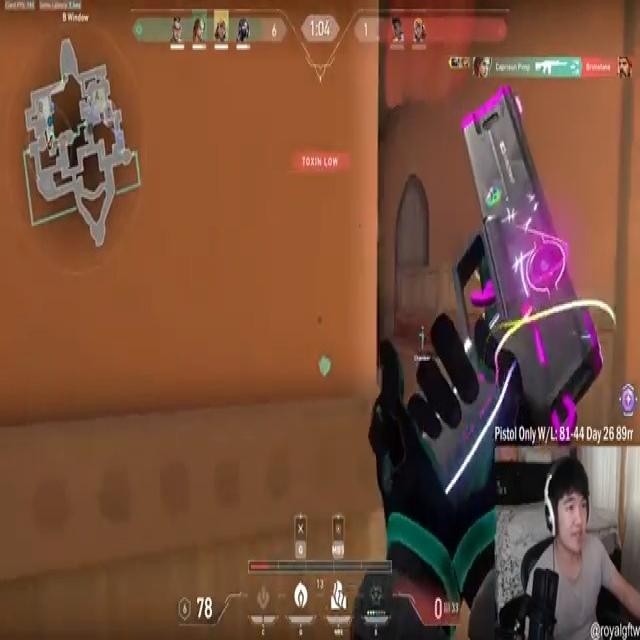gun: (427, 81, 601, 498)
